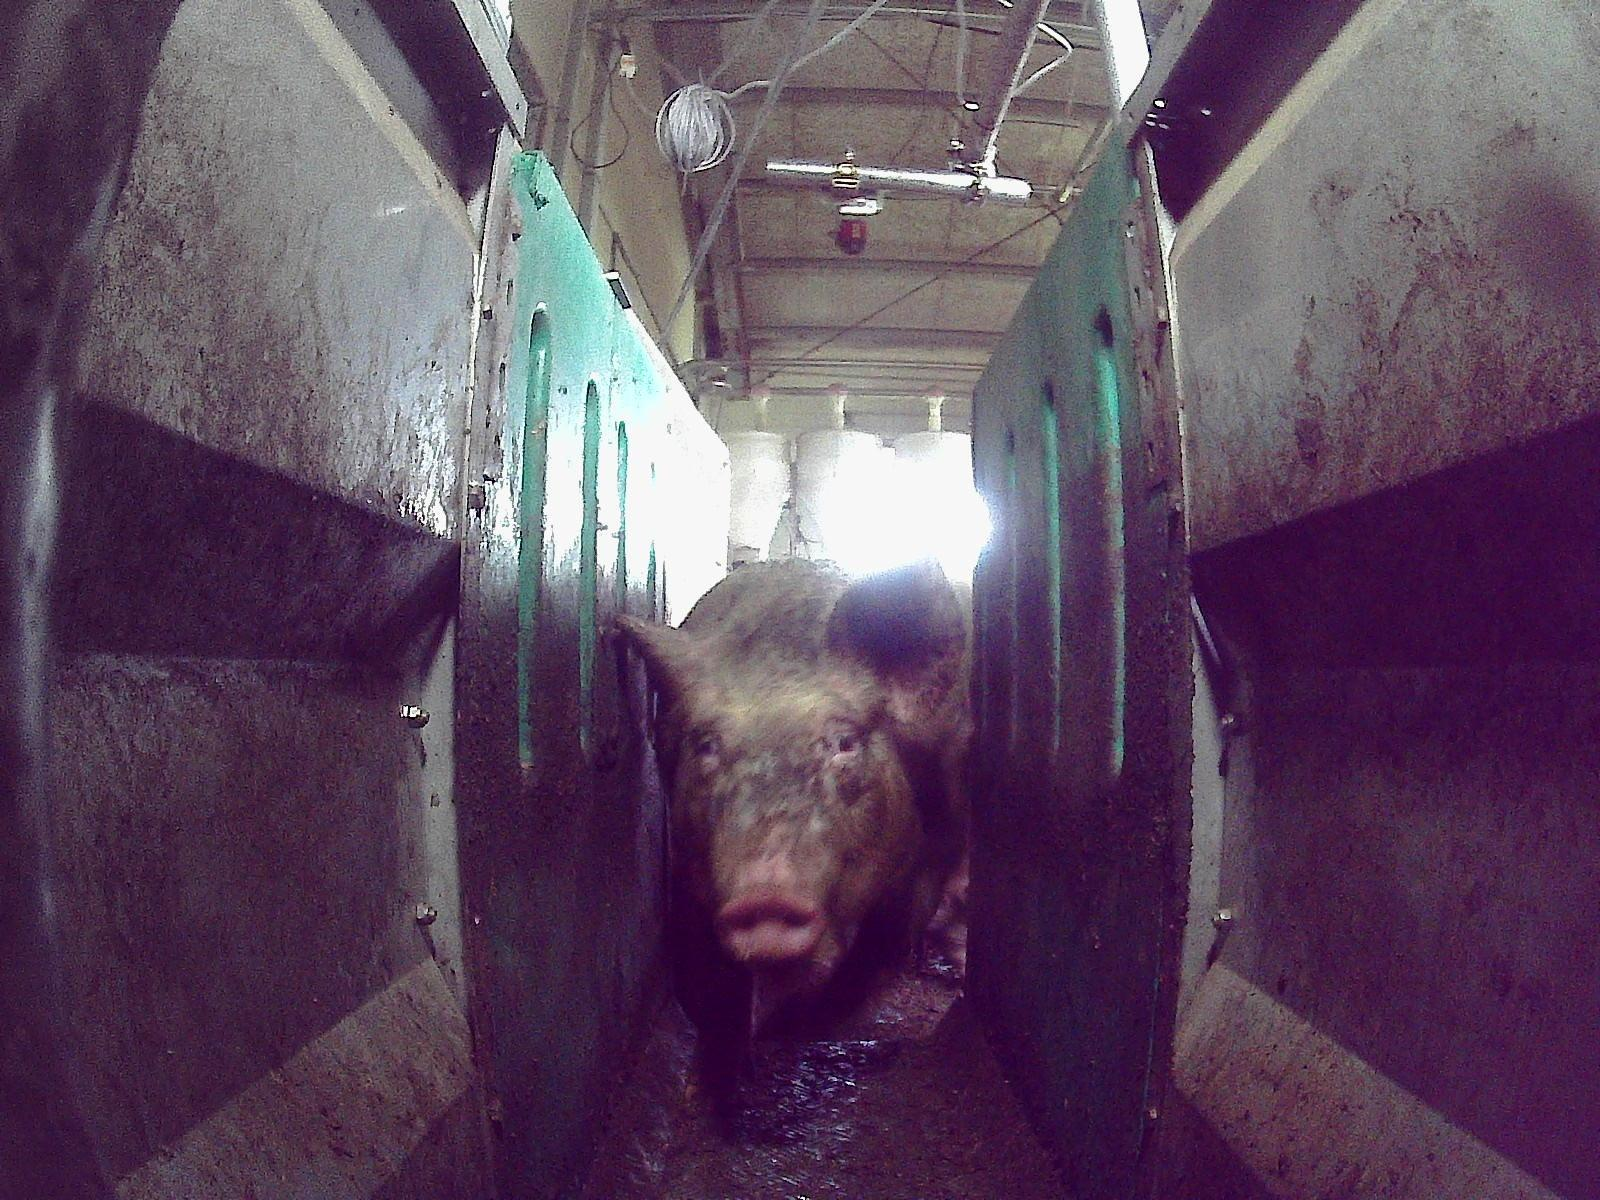Face: (657, 637, 910, 962)
